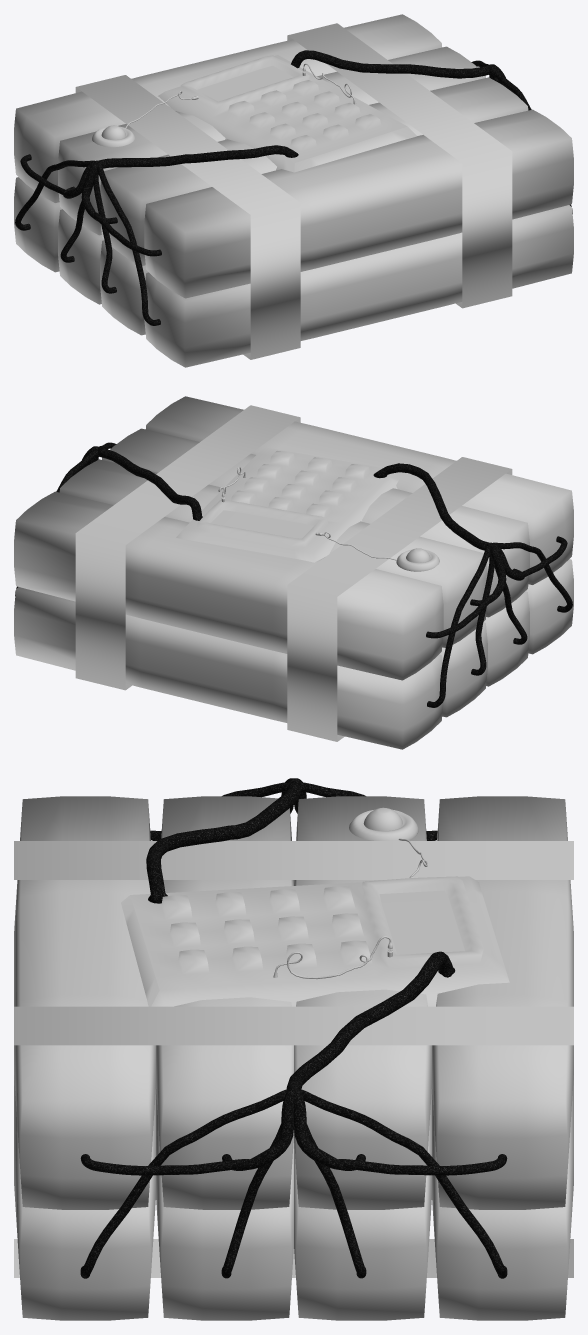
The picture shows the model from 3 angles, top to bottom: view 1: azimuth 30°, elevation 25°; view 2: azimuth 150°, elevation 25°; view 3: azimuth 270°, elevation 25°; orthographic projection. The views are drawn at different scales.
Visible parts, largest first — view 1: C4, Keypad, Wires; view 2: C4, Keypad, Wires; view 3: C4, Keypad, Wires.
Part boxes in pixels (x1,y1,x2,y2): C4: (14,14,573,367); Keypad: (92,55,416,172); Wires: (15,50,572,325); C4: (14,396,573,749); Keypad: (176,447,439,571); Wires: (15,442,572,707); C4: (14,796,573,1320); Keypad: (121,807,509,1006); Wires: (80,778,507,1278).
Bounding box in the file's own units: 628 × 234 × 437.
